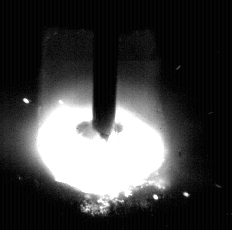arame: (93, 0, 117, 141)
poca: (36, 0, 164, 230)
